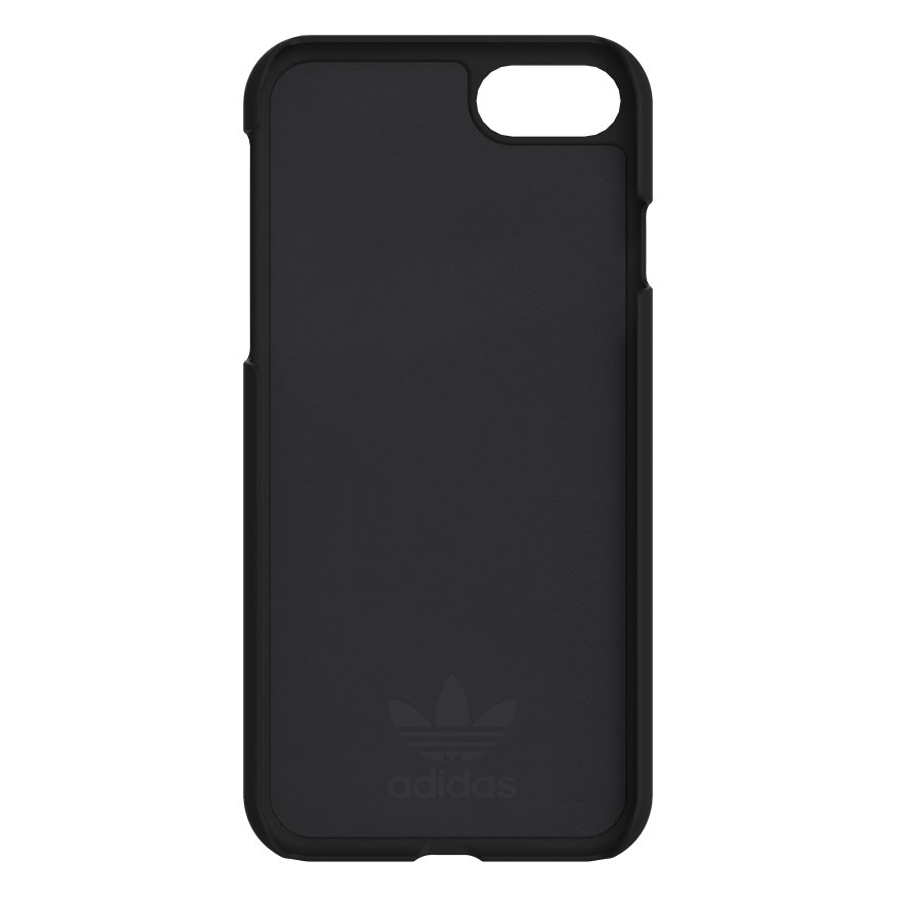Adidas: (380, 678, 523, 807)
